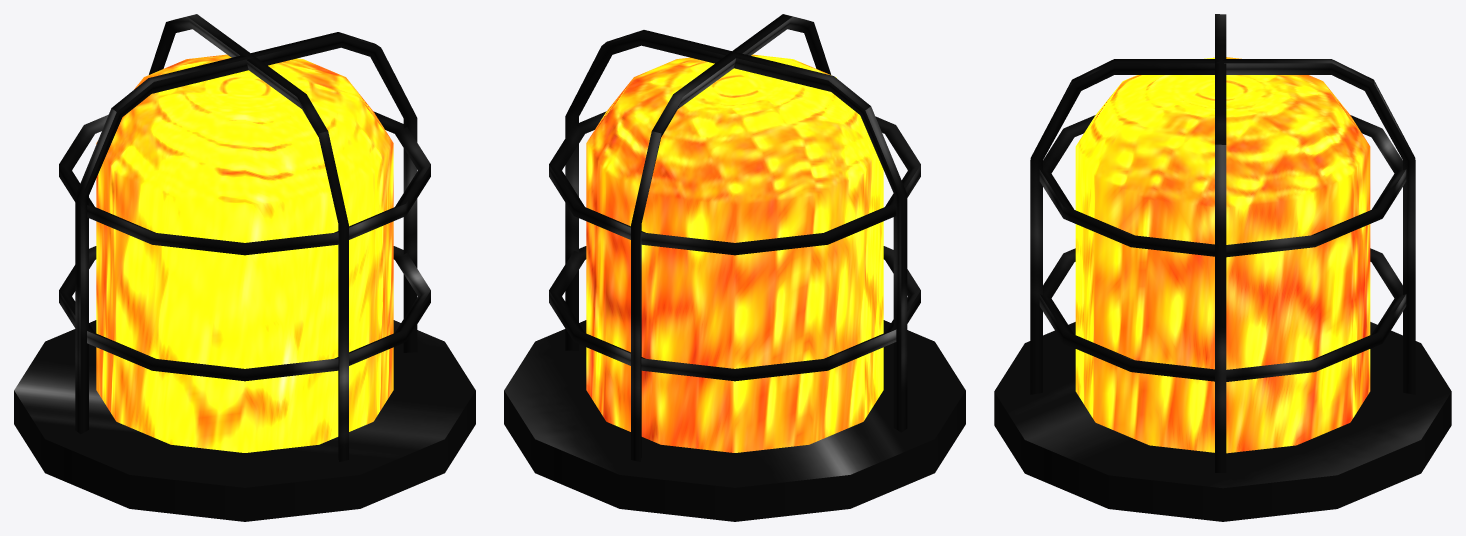
Rendered from light_emergencyA.fbx.
The picture shows the model from 3 angles, left to right: view 1: azimuth 30°, elevation 25°; view 2: azimuth 150°, elevation 25°; view 3: azimuth 270°, elevation 25°; orthographic projection.
Visible parts, largest first — view 1: light_emergency; view 2: light_emergency; view 3: light_emergency.
Boxes of the visible parts, x1,y1,x2,y2 form: light_emergency: (14,14,475,521); light_emergency: (504,14,965,521); light_emergency: (994,14,1451,521).
Size of the model in its own units: 32.33 by 28.47 by 32.33.
Materials: 1 (1 with a texture image).
